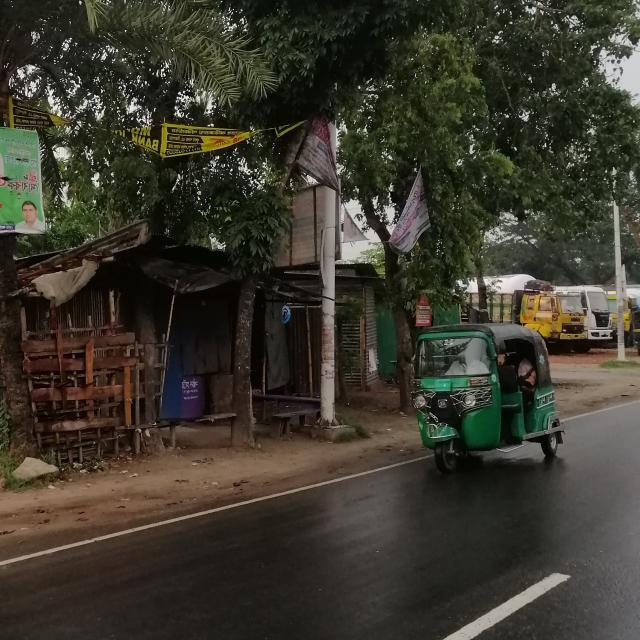CNG: (403, 319, 568, 481)
